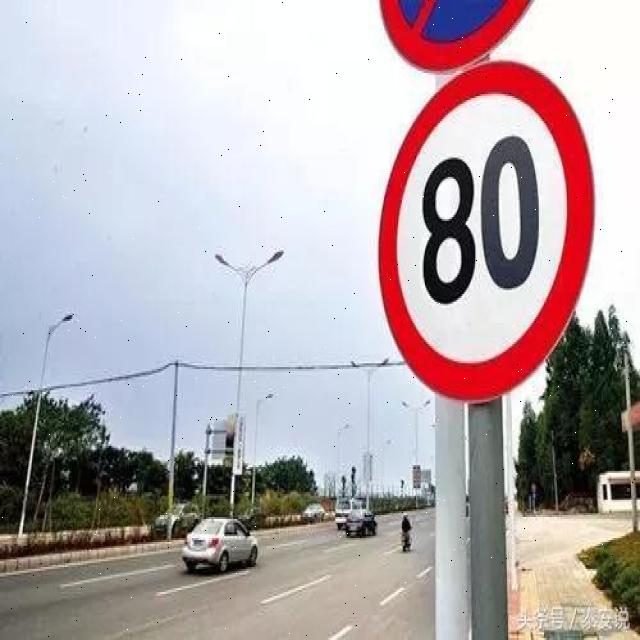speed limit 80: (377, 59, 595, 407)
